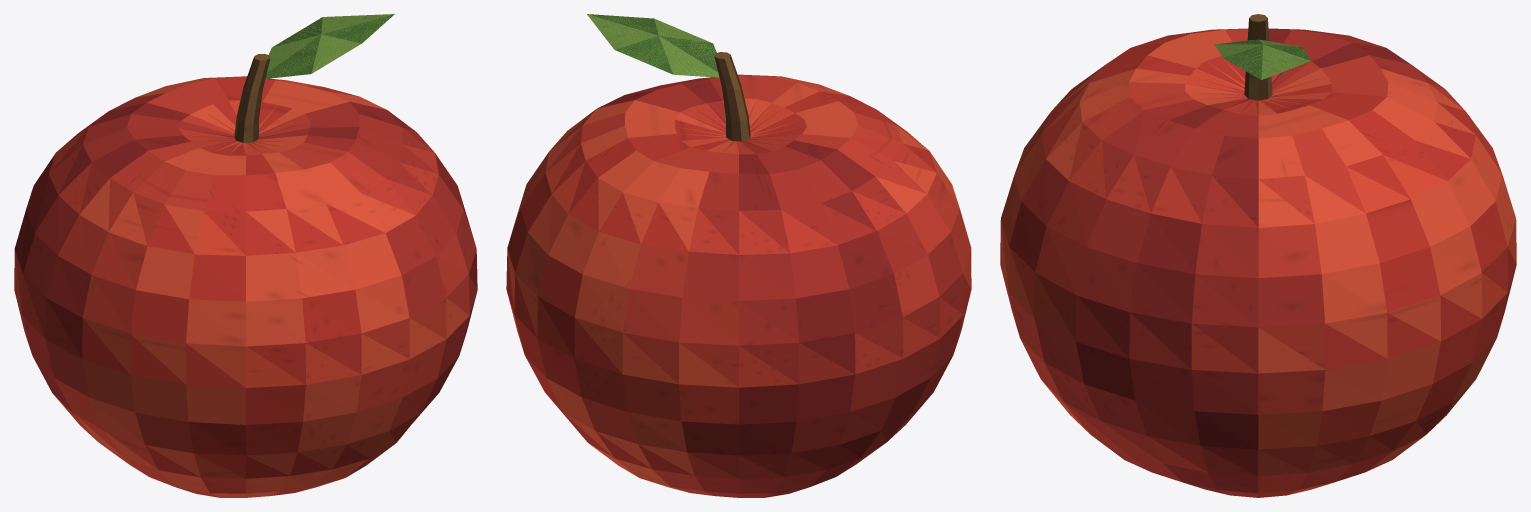
The model's file is Apple.fbx.
The picture shows the model from 3 angles, left to right: view 1: azimuth 30°, elevation 25°; view 2: azimuth 150°, elevation 25°; view 3: azimuth 270°, elevation 25°; orthographic projection. The views are drawn at different scales.
Visible parts, largest first — view 1: Apple; view 2: Apple; view 3: Apple.
Part boxes in pixels (x1,y1,x2,y2): Apple: [14, 14, 477, 497]; Apple: [506, 14, 971, 497]; Apple: [1000, 14, 1516, 497].
Size of the model in its own units: 88 by 86.44 by 88.
1 material, 1 textured.
